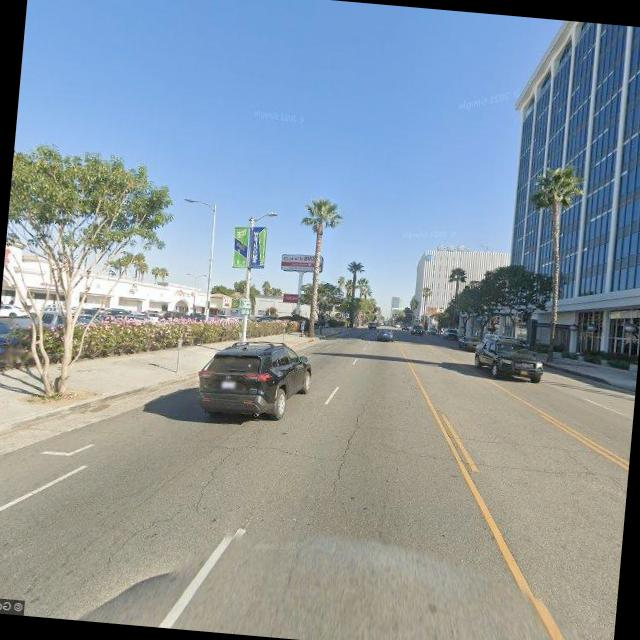pothole: (102, 414, 264, 584), (328, 394, 372, 498)
